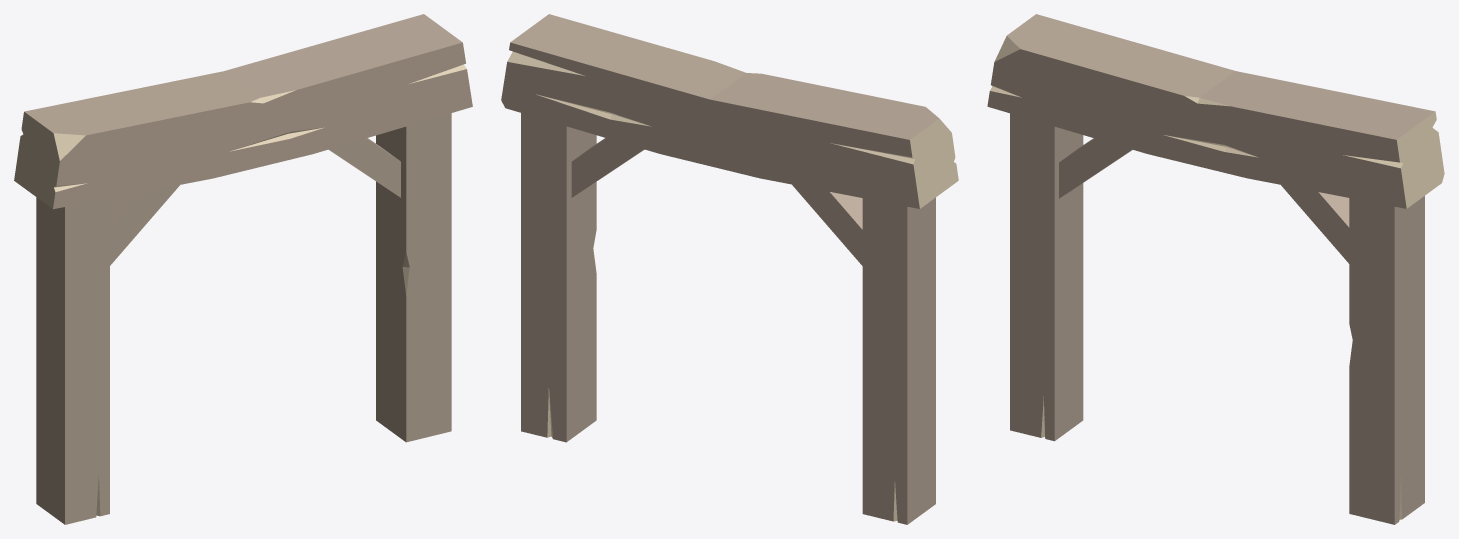
The model's file is Cave_Prop_Entrance_1.glb.
The picture shows the model from 3 angles, left to right: view 1: azimuth 30°, elevation 25°; view 2: azimuth 150°, elevation 25°; view 3: azimuth 330°, elevation 25°; orthographic projection.
Visible parts, largest first — view 1: Cave_Prop_Entrance_1; view 2: Cave_Prop_Entrance_1; view 3: Cave_Prop_Entrance_1.
Part boxes in pixels (x1,y1,x2,y2): Cave_Prop_Entrance_1: (14,14,472,524); Cave_Prop_Entrance_1: (501,14,958,524); Cave_Prop_Entrance_1: (987,14,1444,524).
Bounding box in the file's own units: 2.42 × 2.15 × 0.3879.
